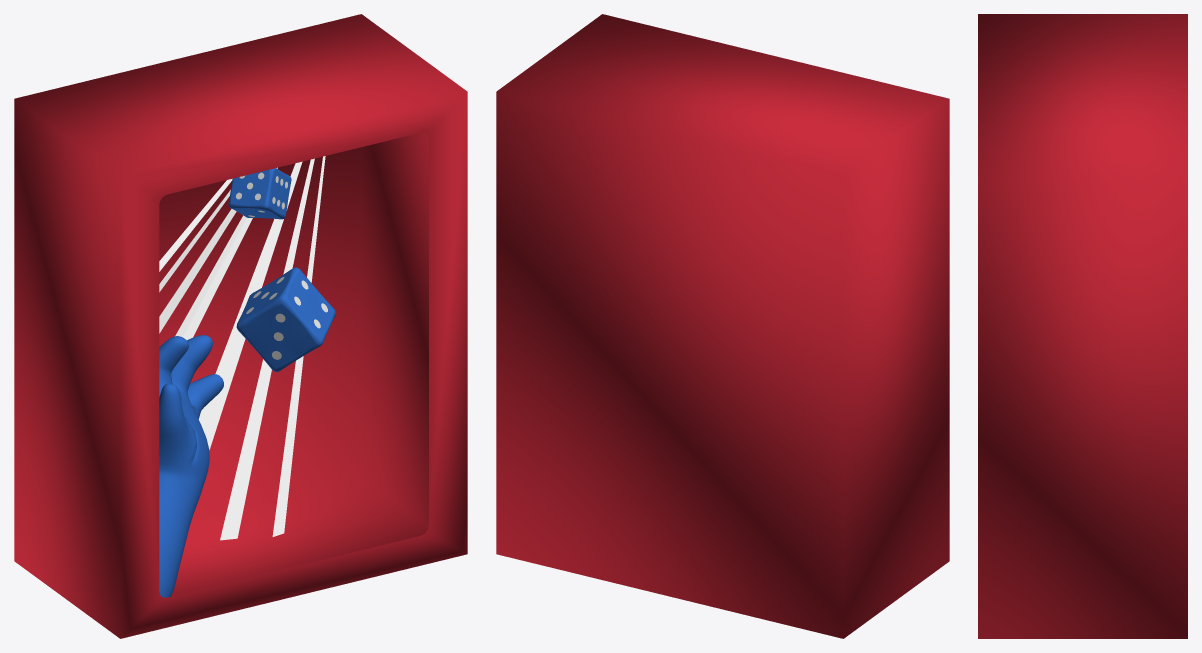
File: 28_RollDice.glb
3 renders of one model, left to right at view 1: azimuth 30°, elevation 25°; view 2: azimuth 150°, elevation 25°; view 3: azimuth 270°, elevation 25°, orthographic.
Visible parts, largest first — view 1: 28_RollDice_bg, 28_RollDice; view 2: 28_RollDice_bg; view 3: 28_RollDice_bg.
Part boxes in pixels (x1,y1,x2,y2): 28_RollDice_bg: (14,14,467,638); 28_RollDice: (159,156,335,597); 28_RollDice_bg: (496,14,949,638); 28_RollDice_bg: (978,14,1187,638).
Bounding box in the file's own units: 2.76 × 3.51 × 1.46.
Materials: 2 (2 with a texture image).
